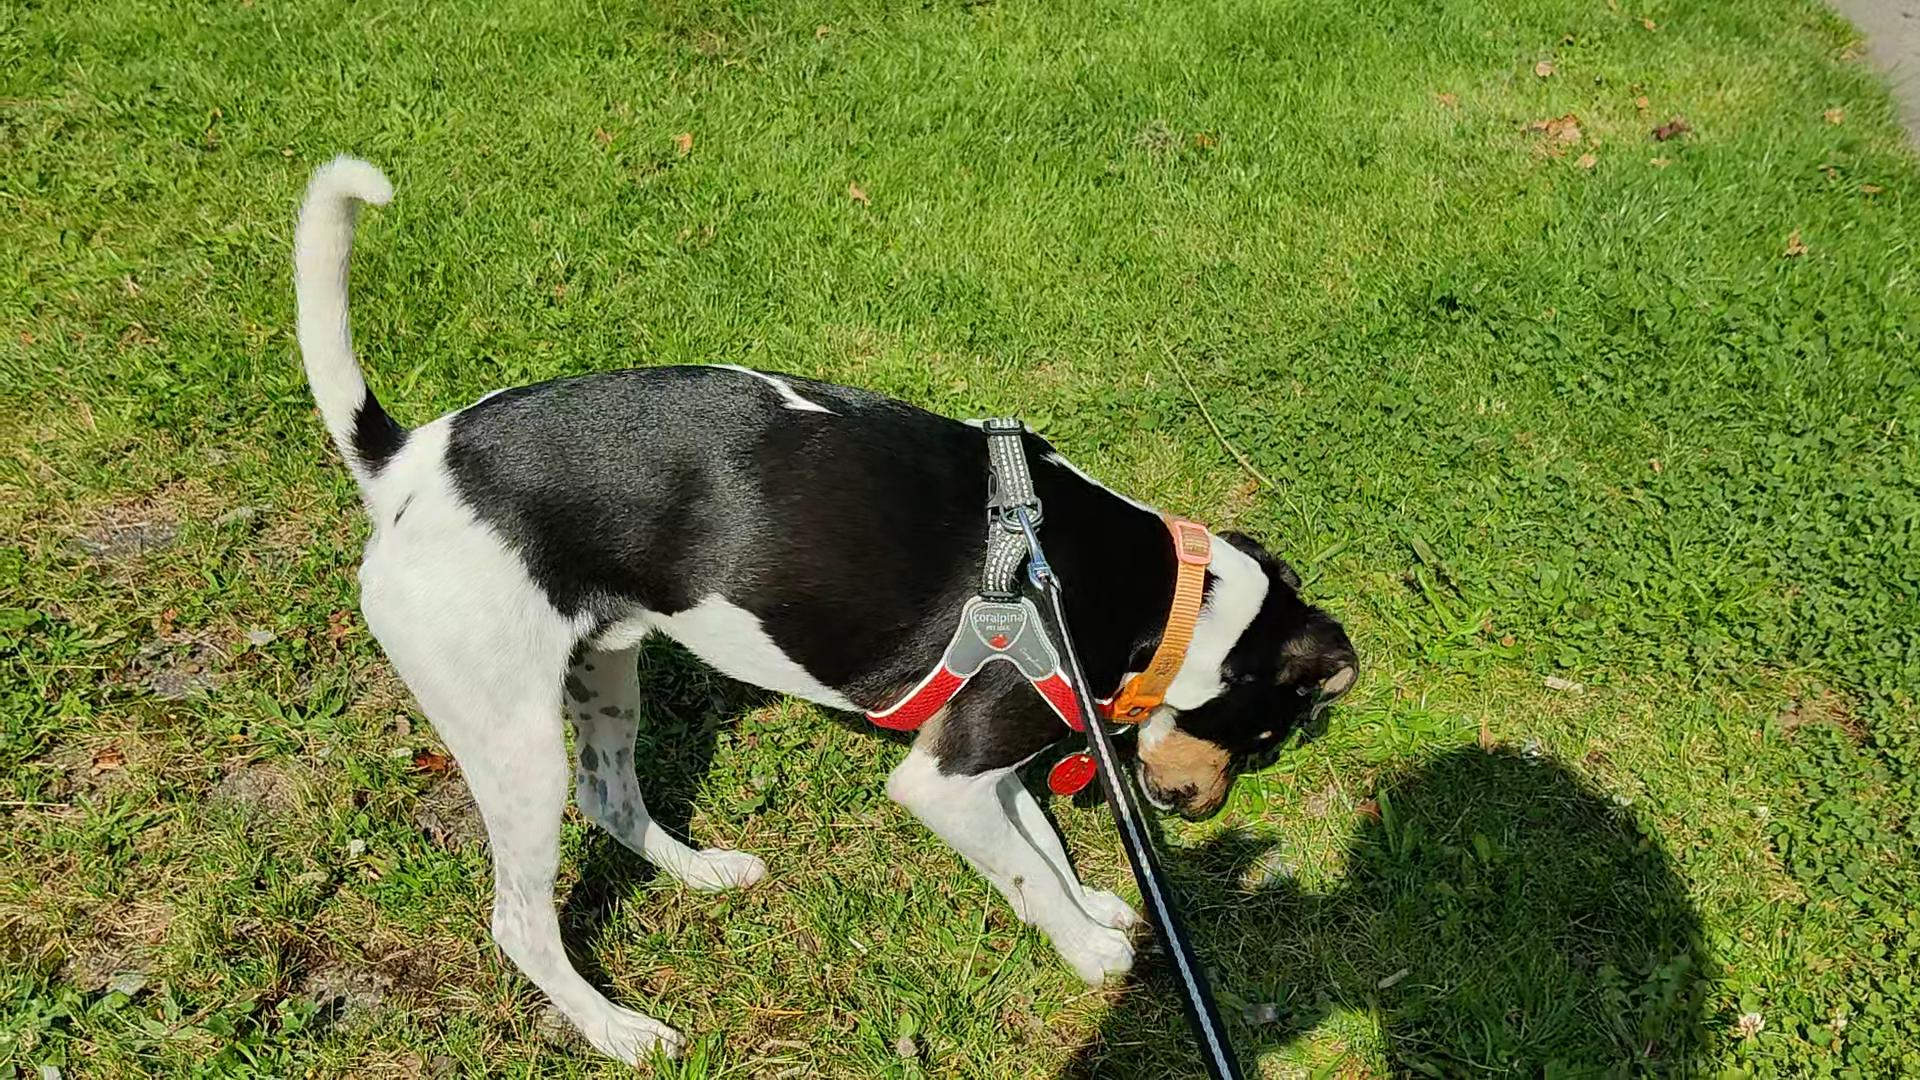Dog: (277, 142, 1396, 1079)
